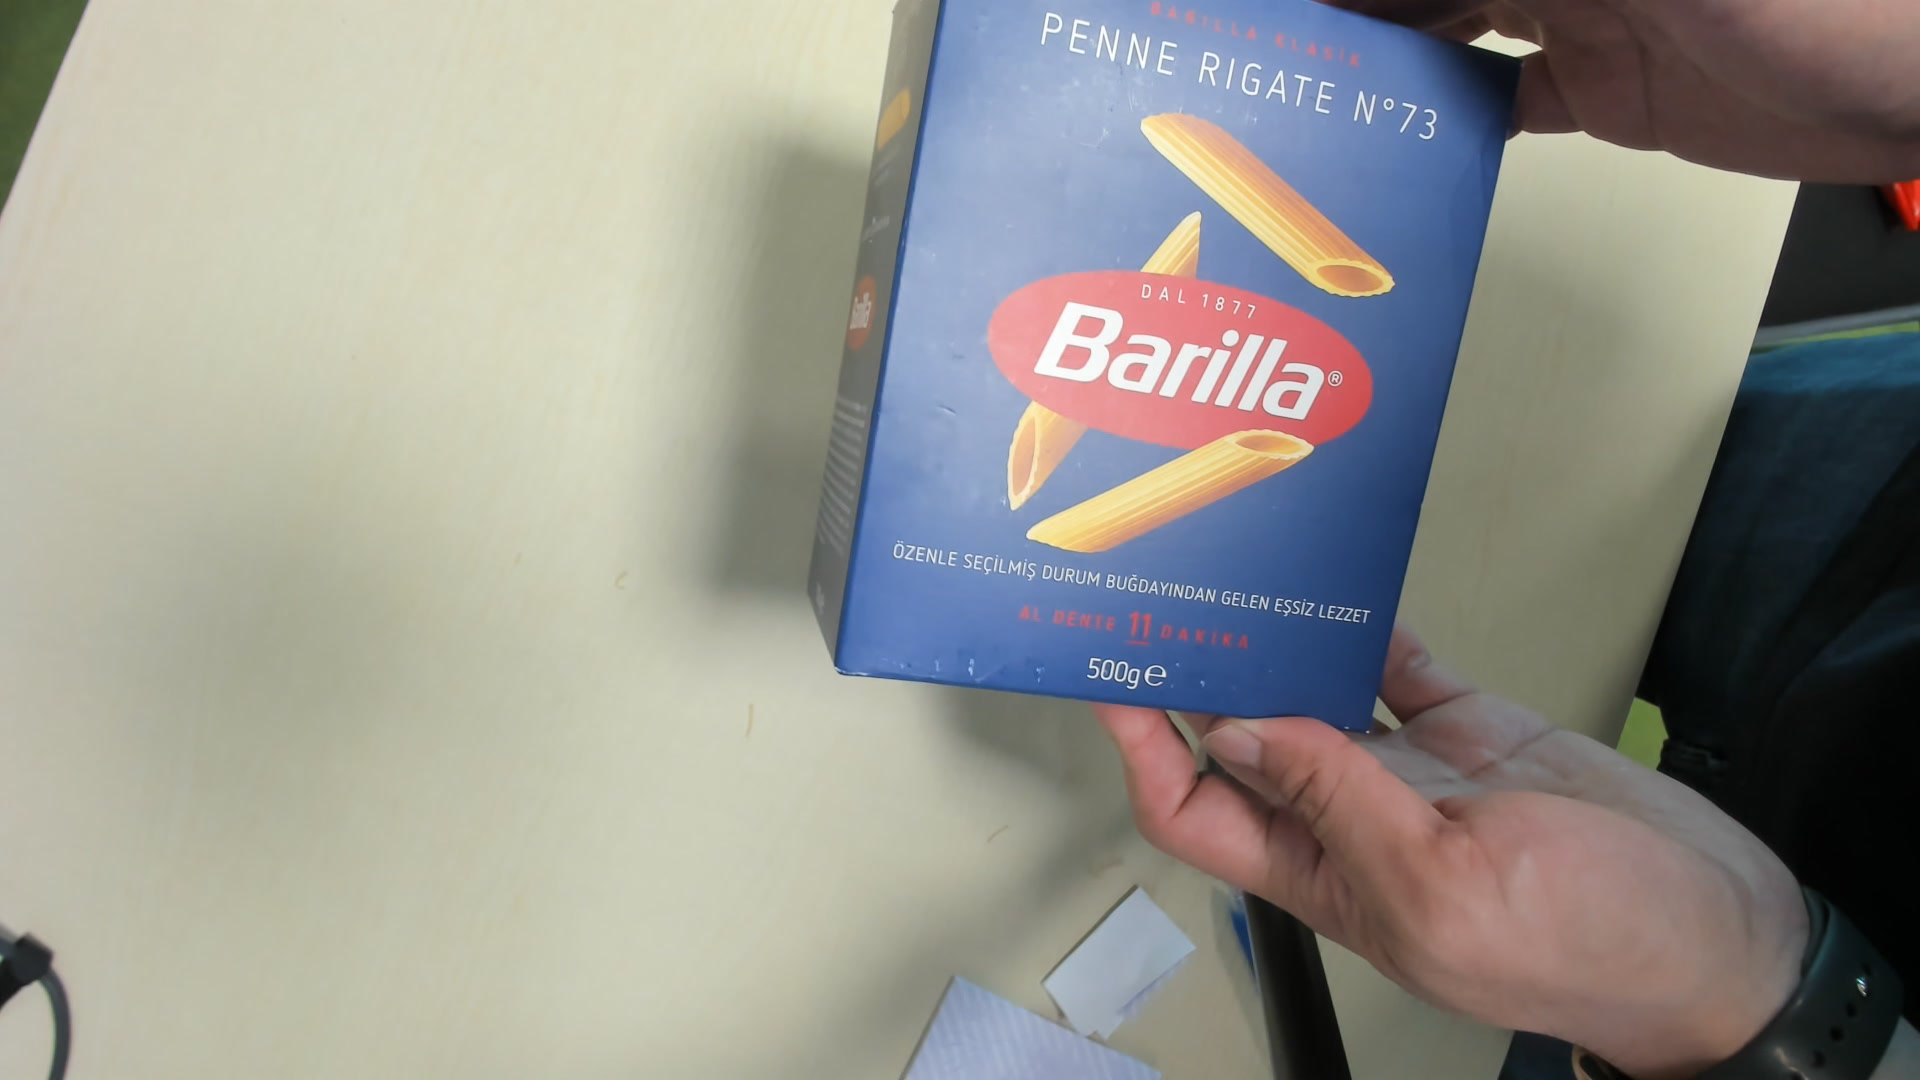Pasta_500-599g_NonHalal_NonHealthy: (799, 3, 1538, 738)
